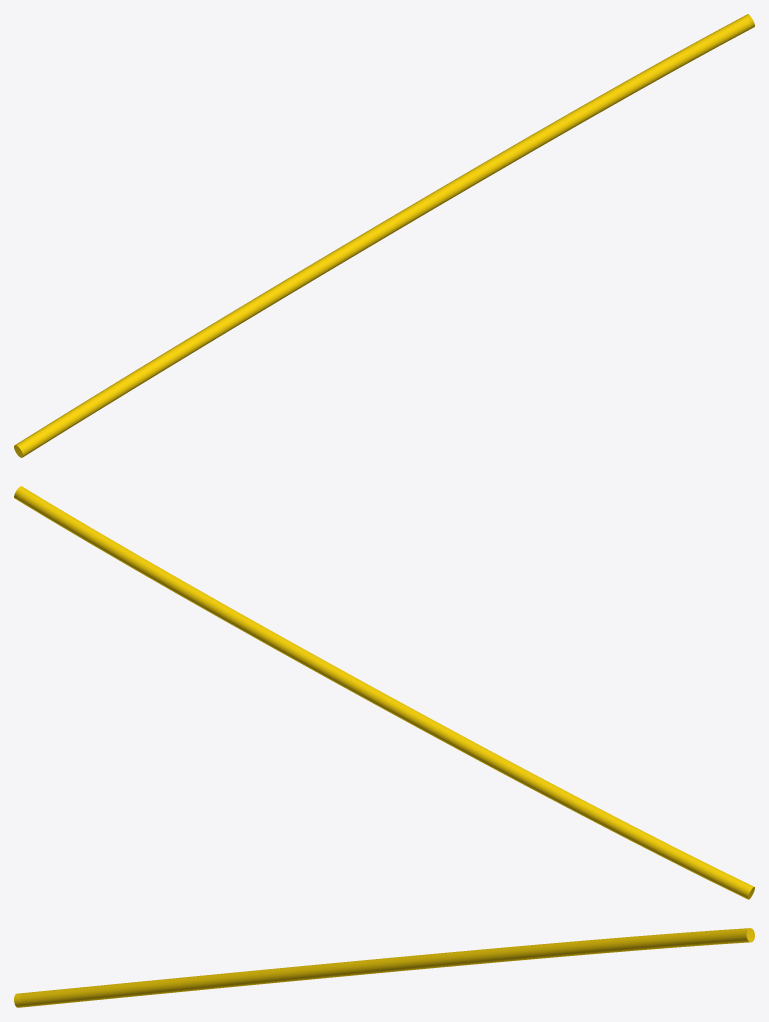
Rendered from Event_421115418_track_37.fbx.
The picture shows the model from 3 angles, top to bottom: view 1: azimuth 30°, elevation 25°; view 2: azimuth 150°, elevation 25°; view 3: azimuth 330°, elevation 25°; orthographic projection. The views are drawn at different scales.
Visible parts, largest first — view 1: Model; view 2: Model; view 3: Model.
Boxes of the visible parts, x1,y1,x2,y2 form: Model: [14, 14, 754, 457]; Model: [14, 486, 754, 899]; Model: [14, 928, 754, 1007].
Bounding box in the file's own units: 2.35 × 0.7591 × 0.1156.
